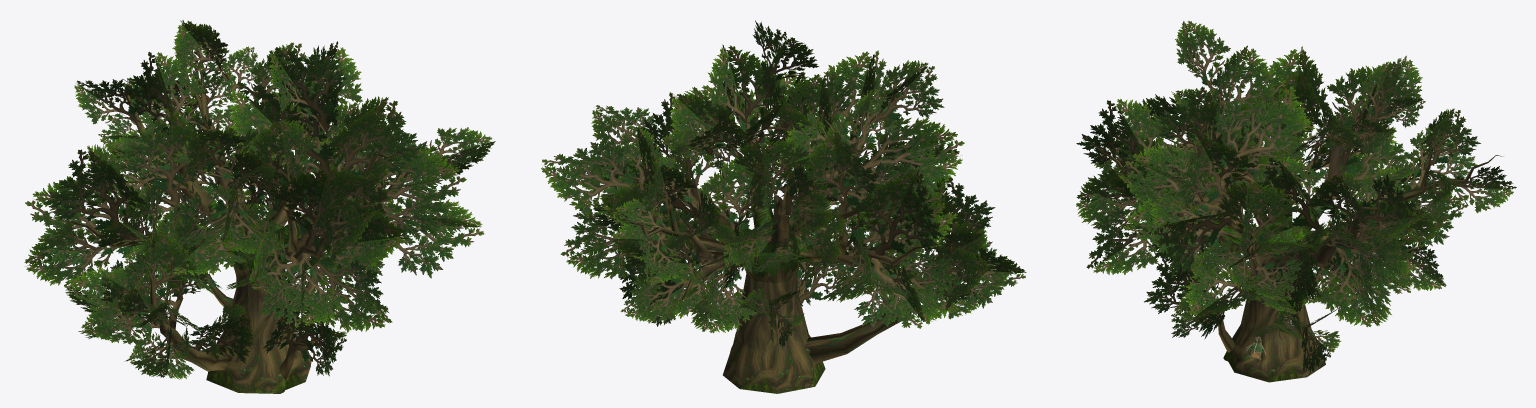
File: oracle_tree_set0.obj
The picture shows the model from 3 angles, left to right: view 1: azimuth 30°, elevation 25°; view 2: azimuth 150°, elevation 25°; view 3: azimuth 270°, elevation 25°; orthographic projection. The views are drawn at different scales.
Parts seen in each view (by area): view 1: Oracletree_exterior7, Oracletree_exterior3, Oracletree_exterior6; view 2: Oracletree_exterior7, Oracletree_exterior3, Oracletree_exterior6; view 3: Oracletree_exterior7, Oracletree_exterior3, Oracletree_exterior6.
Part boxes in pixels (left/top/right/bottom): Oracletree_exterior7: left=24, top=20, right=495, bottom=379; Oracletree_exterior3: left=53, top=42, right=442, bottom=393; Oracletree_exterior6: left=146, top=205, right=328, bottom=379; Oracletree_exterior7: left=541, top=20, right=1026, bottom=348; Oracletree_exterior3: left=608, top=92, right=943, bottom=393; Oracletree_exterior6: left=767, top=174, right=961, bottom=363; Oracletree_exterior7: left=1076, top=20, right=1516, bottom=374; Oracletree_exterior3: left=1090, top=77, right=1503, bottom=382; Oracletree_exterior6: left=1166, top=150, right=1333, bottom=352.
Bounding box in the file's own units: 185 × 137 × 177.
Materials: 11 (11 with a texture image).
